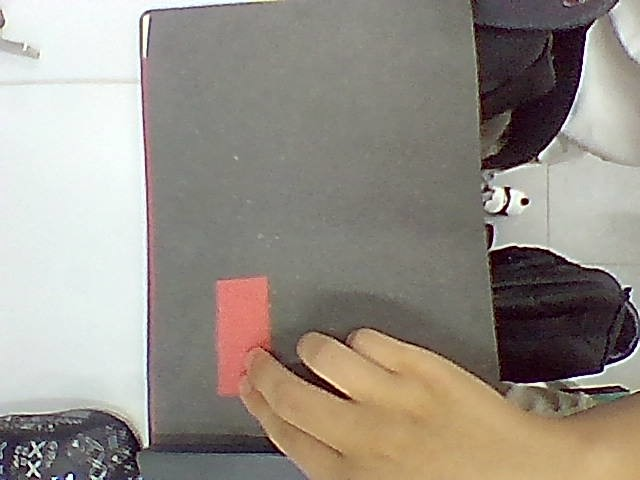card: (216, 276, 269, 396)
